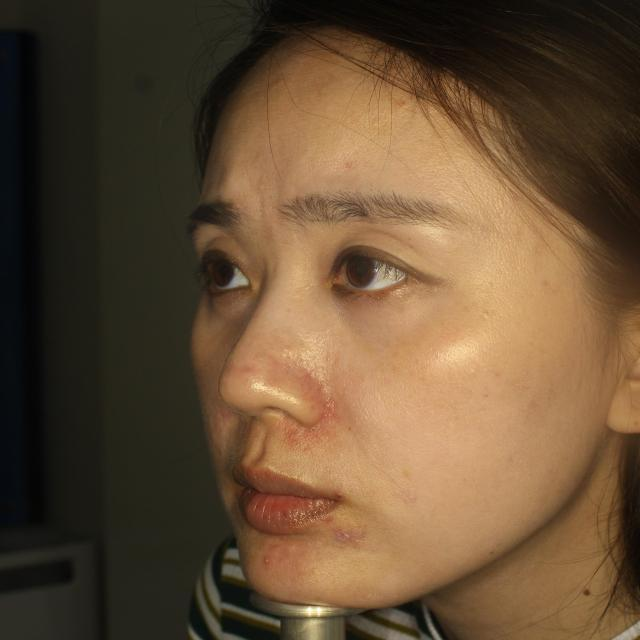acne: (333, 520, 369, 542), (257, 546, 287, 568)
